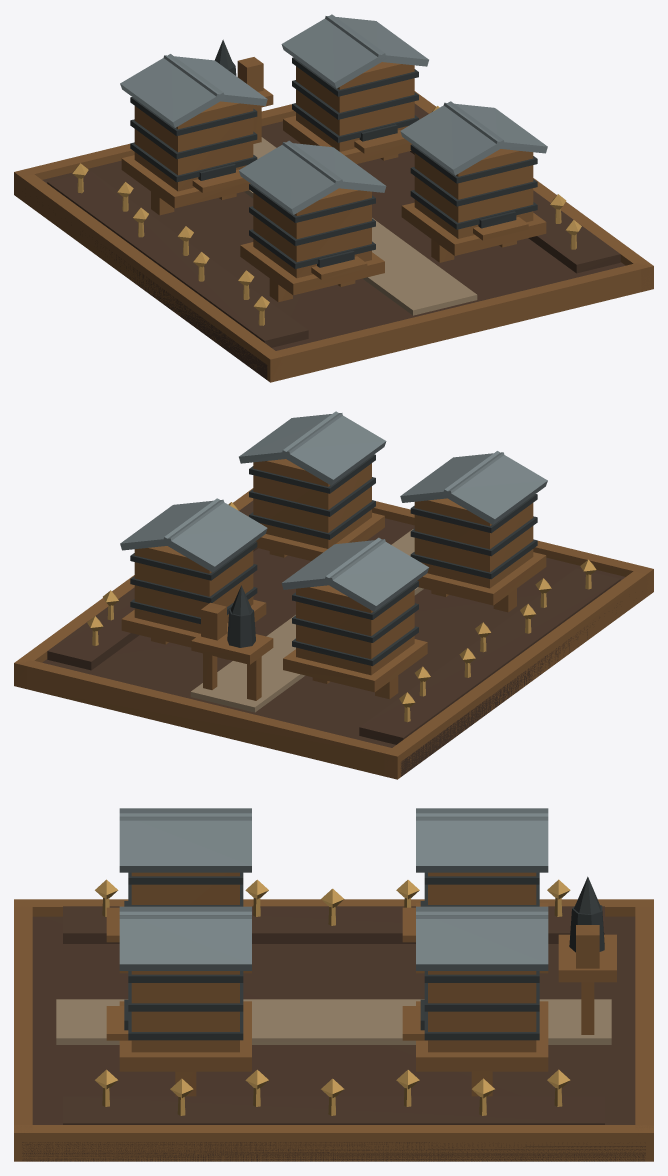
The model's file is apiary-field.source.glb.
3 renders of one model, top to bottom at view 1: azimuth 30°, elevation 25°; view 2: azimuth 150°, elevation 25°; view 3: azimuth 270°, elevation 25°, orthographic. The views are drawn at different scales.
Parts seen in each view (by area): view 1: apiary-field-field-soil-base-mesh, apiary-field-front-edge-mesh, apiary-field-left-flower-bed-mesh, apiary-field-left-edge-mesh, apiary-field-front-right-hive-body-mesh, apiary-field-front-left-hive-body-mesh, apiary-field-rear-left-hive-body-mesh, apiary-field-rear-right-hive-body-mesh, apiary-field-service-path-surface-mesh, apiary-field-rear-left-left-lid-mesh, apiary-field-rear-right-left-lid-mesh, apiary-field-front-left-left-lid-mesh (+29 smaller); view 2: apiary-field-field-soil-base-mesh, apiary-field-rear-edge-mesh, apiary-field-left-flower-bed-mesh, apiary-field-left-edge-mesh, apiary-field-rear-left-hive-body-mesh, apiary-field-front-left-hive-body-mesh, apiary-field-front-right-hive-body-mesh, apiary-field-rear-right-hive-body-mesh, apiary-field-service-path-surface-mesh, apiary-field-front-right-left-lid-mesh, apiary-field-rear-left-left-lid-mesh, apiary-field-rear-right-left-lid-mesh (+28 smaller); view 3: apiary-field-field-soil-base-mesh, apiary-field-right-edge-mesh, apiary-field-right-flower-bed-mesh, apiary-field-service-path-surface-mesh, apiary-field-left-flower-bed-mesh, apiary-field-front-left-right-lid-mesh, apiary-field-rear-left-right-lid-mesh, apiary-field-front-right-right-lid-mesh, apiary-field-rear-right-right-lid-mesh, apiary-field-front-right-hive-body-mesh, apiary-field-rear-right-hive-body-mesh, apiary-field-front-edge-mesh (+25 smaller).
Boxes of the visible parts, left/top/right/bottom form: apiary-field-field-soil-base-mesh: left=42, top=121, right=625, bottom=379; apiary-field-front-edge-mesh: left=263, top=263, right=653, bottom=382; apiary-field-left-flower-bed-mesh: left=47, top=171, right=308, bottom=347; apiary-field-left-edge-mesh: left=14, top=169, right=283, bottom=382; apiary-field-front-right-hive-body-mesh: left=414, top=149, right=533, bottom=238; apiary-field-front-left-hive-body-mesh: left=253, top=188, right=371, bottom=278; apiary-field-rear-left-hive-body-mesh: left=134, top=101, right=253, bottom=191; apiary-field-rear-right-hive-body-mesh: left=296, top=62, right=414, bottom=151; apiary-field-service-path-surface-mesh: left=244, top=137, right=477, bottom=315; apiary-field-rear-left-left-lid-mesh: left=120, top=54, right=225, bottom=127; apiary-field-rear-right-left-lid-mesh: left=281, top=14, right=386, bottom=88; apiary-field-front-left-left-lid-mesh: left=239, top=140, right=343, bottom=214; apiary-field-field-soil-base-mesh: left=42, top=518, right=625, bottom=776; apiary-field-rear-edge-mesh: left=15, top=660, right=404, bottom=779; apiary-field-left-flower-bed-mesh: left=359, top=568, right=620, bottom=744; apiary-field-left-edge-mesh: left=384, top=566, right=653, bottom=779; apiary-field-rear-left-hive-body-mesh: left=296, top=585, right=414, bottom=675; apiary-field-front-left-hive-body-mesh: left=414, top=498, right=533, bottom=588; apiary-field-front-right-hive-body-mesh: left=253, top=459, right=371, bottom=548; apiary-field-rear-right-hive-body-mesh: left=134, top=546, right=253, bottom=633; apiary-field-service-path-surface-mesh: left=190, top=529, right=423, bottom=712; apiary-field-front-right-left-lid-mesh: left=281, top=411, right=386, bottom=485; apiary-field-rear-left-left-lid-mesh: left=324, top=537, right=428, bottom=611; apiary-field-rear-right-left-lid-mesh: left=162, top=498, right=267, bottom=572; apiary-field-field-soil-base-mesh: left=22, top=916, right=645, bottom=1161; apiary-field-right-edge-mesh: left=14, top=1125, right=653, bottom=1161; apiary-field-right-flower-bed-mesh: left=63, top=1096, right=604, bottom=1124; apiary-field-service-path-surface-mesh: left=56, top=999, right=611, bottom=1044; apiary-field-left-flower-bed-mesh: left=63, top=906, right=604, bottom=943; apiary-field-front-left-right-lid-mesh: left=119, top=813, right=251, bottom=872; apiary-field-rear-left-right-lid-mesh: left=416, top=813, right=548, bottom=872; apiary-field-front-right-right-lid-mesh: left=119, top=911, right=251, bottom=970; apiary-field-rear-right-right-lid-mesh: left=416, top=911, right=548, bottom=970; apiary-field-front-right-hive-body-mesh: left=131, top=971, right=239, bottom=1052; apiary-field-rear-right-hive-body-mesh: left=428, top=971, right=536, bottom=1052; apiary-field-front-edge-mesh: left=14, top=902, right=32, bottom=1158.
Size of the model in its own units: 4.18 by 1.5 by 4.84.
